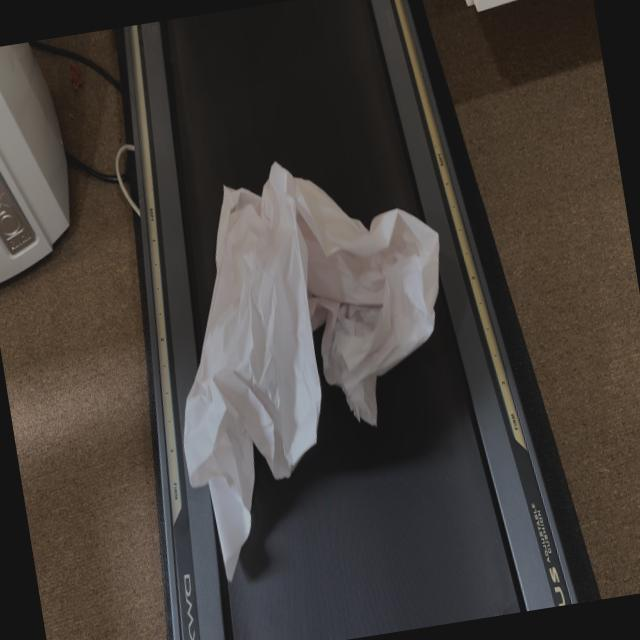Recycle: (138, 132, 488, 592)
